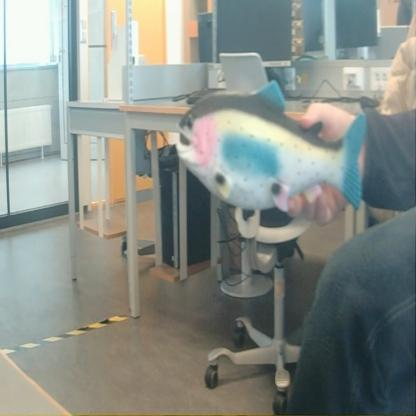rubberfish: (172, 73, 368, 221)
